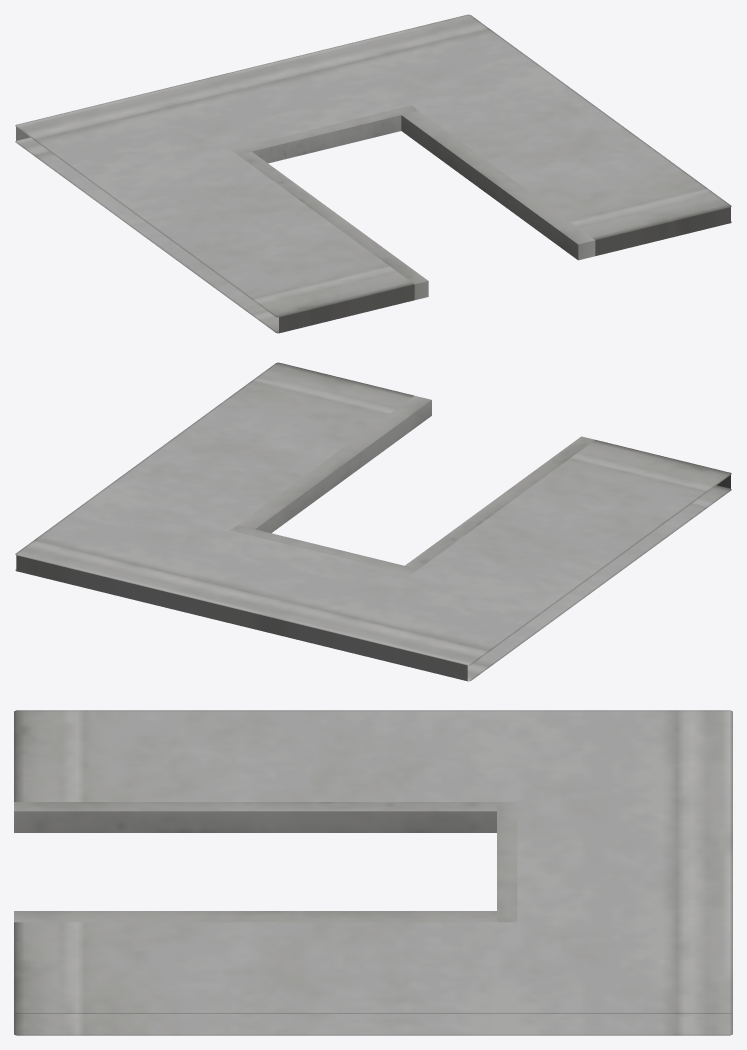
File: SM_EC_House_Wall_DoorWay_3x3_2.fbx
3 views of the same model, one above another, from view 1: azimuth 30°, elevation 25°; view 2: azimuth 150°, elevation 25°; view 3: azimuth 270°, elevation 25° (orthographic). The views are drawn at different scales.
Visible parts, largest first — view 1: SM_EC_House_Wall_DoorWay_3x3_2; view 2: SM_EC_House_Wall_DoorWay_3x3_2; view 3: SM_EC_House_Wall_DoorWay_3x3_2.
Part boxes in pixels (x1,y1,x2,y2): SM_EC_House_Wall_DoorWay_3x3_2: [15, 14, 731, 333]; SM_EC_House_Wall_DoorWay_3x3_2: [15, 362, 731, 681]; SM_EC_House_Wall_DoorWay_3x3_2: [14, 710, 732, 1035].
Size of the model in its own units: 3 by 3 by 0.1.
